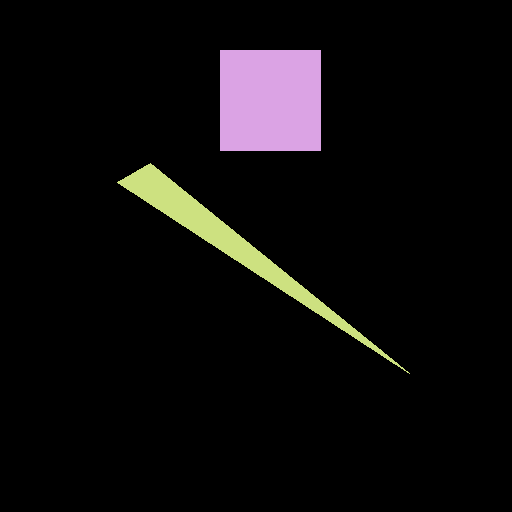square: (220, 50, 320, 150)
triangle: (117, 163, 409, 373)
